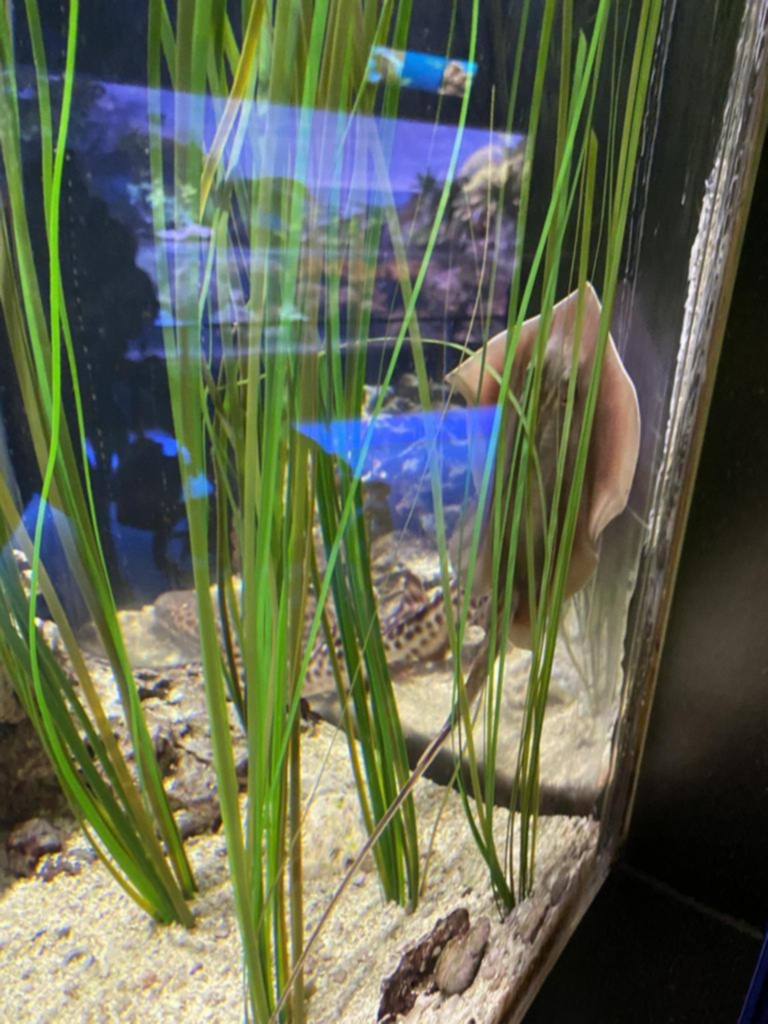stingray: (444, 282, 642, 650)
